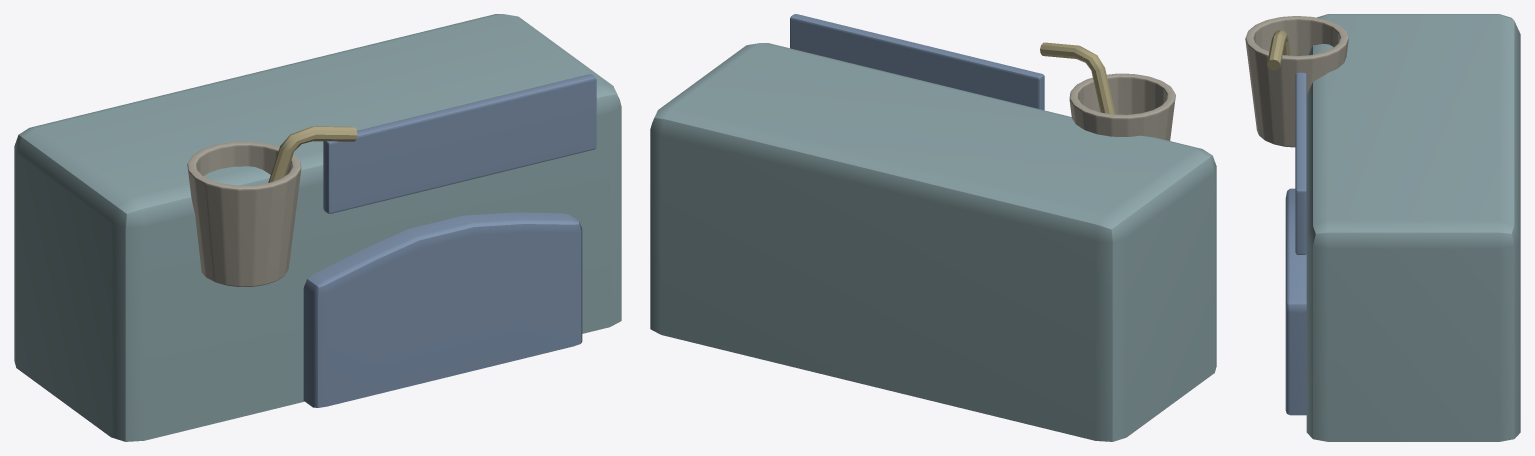
3 views of the same model, side by side, from view 1: azimuth 30°, elevation 25°; view 2: azimuth 150°, elevation 25°; view 3: azimuth 270°, elevation 25° (orthographic). The views are drawn at different scales.
Visible parts, largest first — view 1: pCube100; view 2: pCube100; view 3: pCube100.
Boxes of the visible parts, x1=… form: pCube100: x1=14, y1=14, x2=621, y2=441; pCube100: x1=650, y1=14, x2=1216, y2=441; pCube100: x1=1245, y1=14, x2=1520, y2=441.
Bounding box in the file's own units: 72.23 × 39.08 × 37.5.
